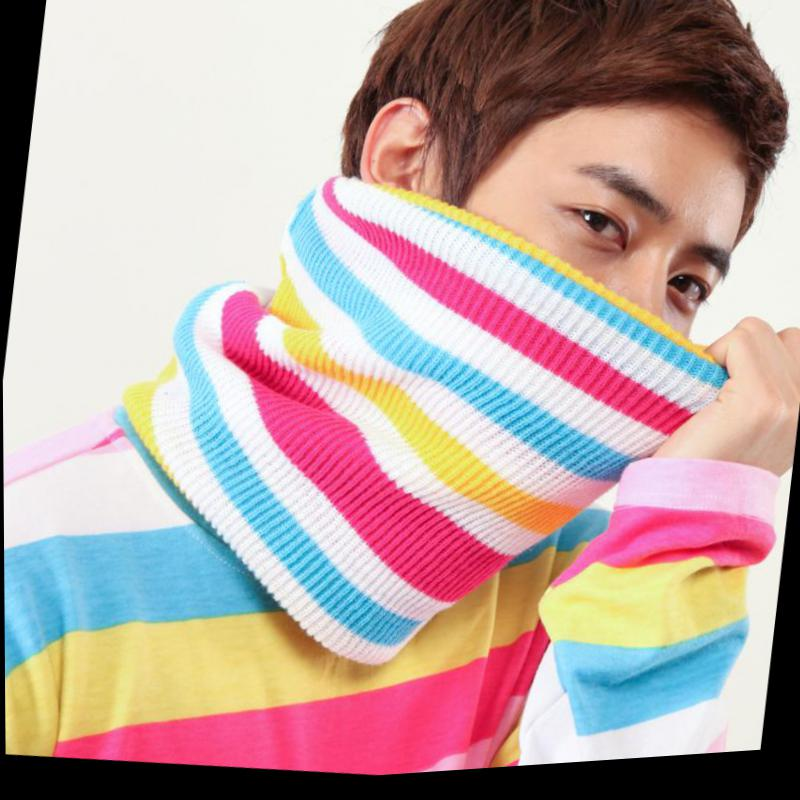WRONG: (421, 129, 757, 480)
